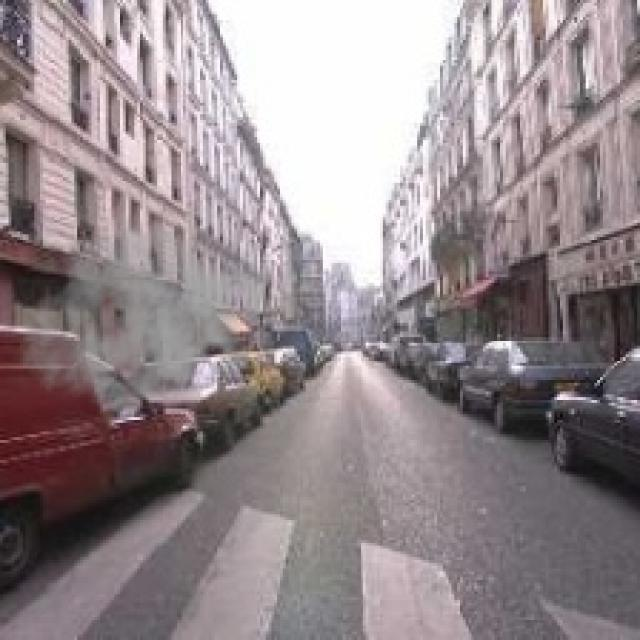Smoke: (17, 211, 272, 426)
